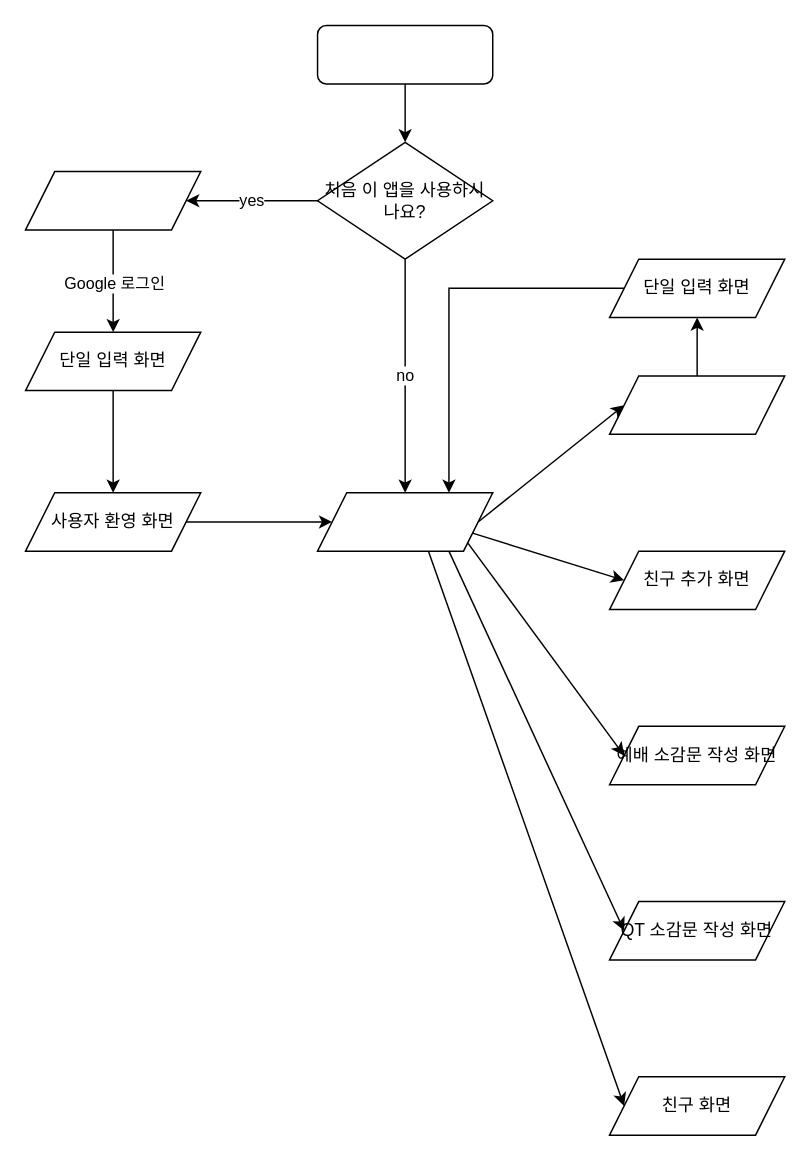
This 810x1161 diagram has some shape labels left out. The centre of each missing label's shape, as x and y in pixels:
사용자 화면: (x=696, y=404)
시작: (x=404, y=54)
안내 화면: (x=112, y=200)
홈 화면: (x=404, y=521)
